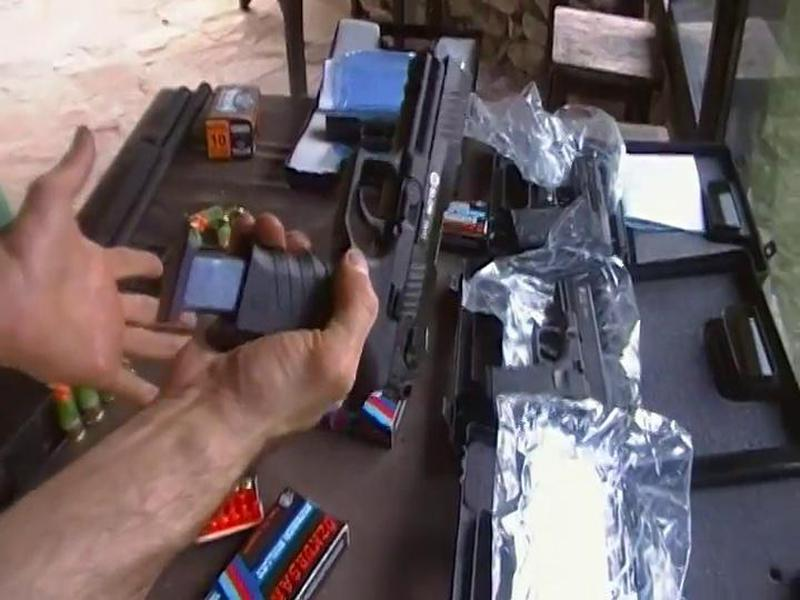Pistola: (237, 36, 499, 412)
